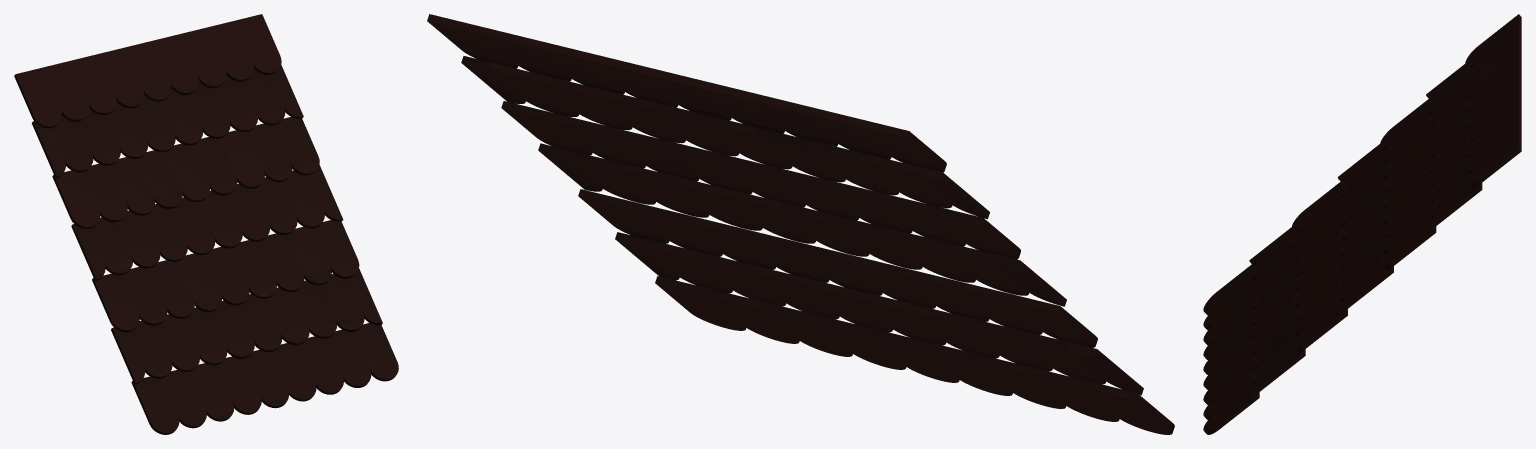
File: Roof_Side.fbx
3 views of the same model, side by side, from view 1: azimuth 30°, elevation 25°; view 2: azimuth 150°, elevation 25°; view 3: azimuth 270°, elevation 25° (orthographic). The views are drawn at different scales.
Parts seen in each view (by area): view 1: Roof_Side; view 2: Roof_Side; view 3: Roof_Side.
Part boxes in pixels (box(x1,y1,x2,y2)): Roof_Side: box(14, 14, 398, 434); Roof_Side: box(427, 14, 1174, 434); Roof_Side: box(1203, 14, 1521, 434).
Bounding box in the file's own units: 100 × 101 × 100.
